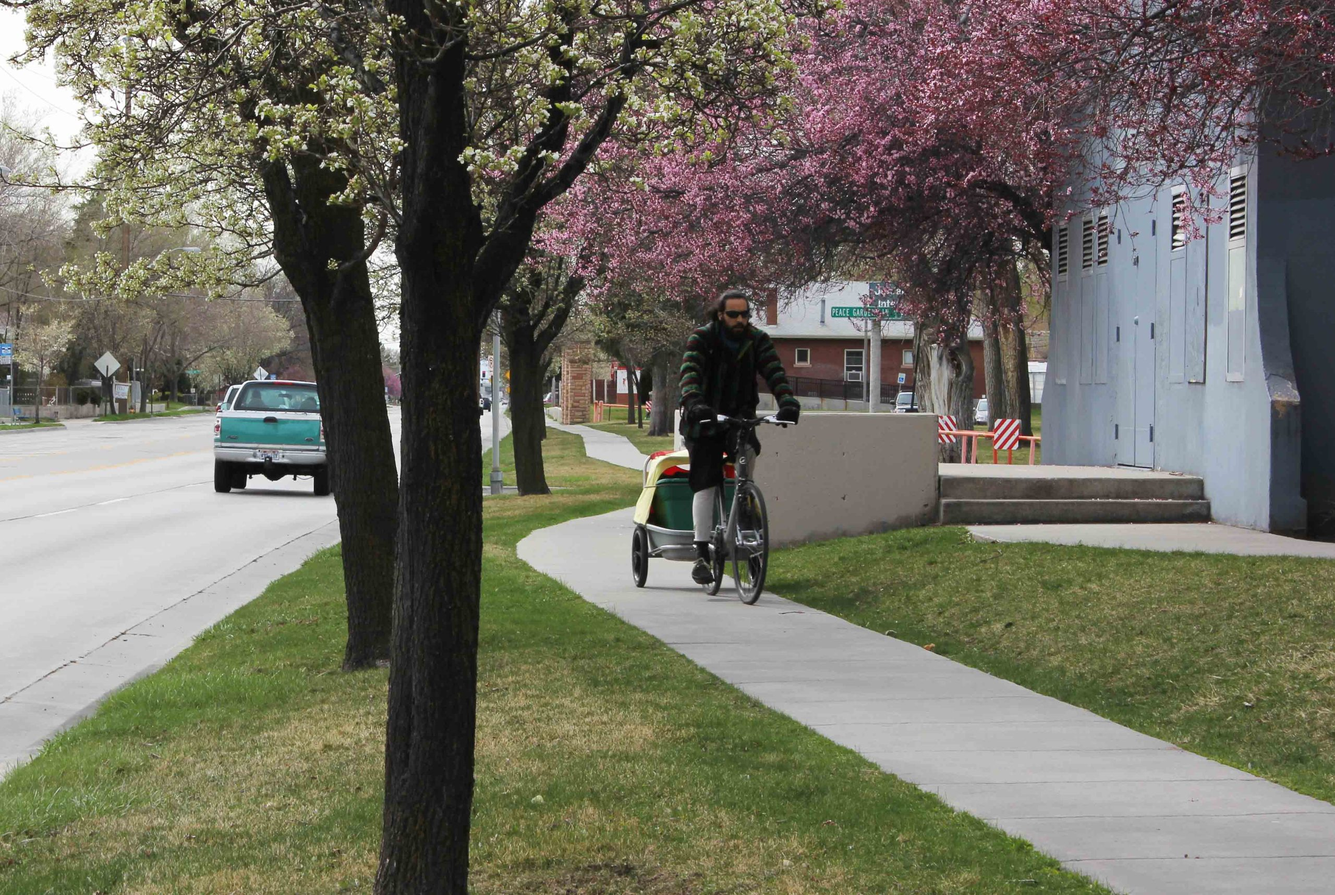Bicycle: (633, 421, 803, 623)
Car: (195, 372, 335, 498)
Person: (651, 294, 815, 474)
Tree: (255, 1, 521, 895), (839, 9, 1052, 443)
